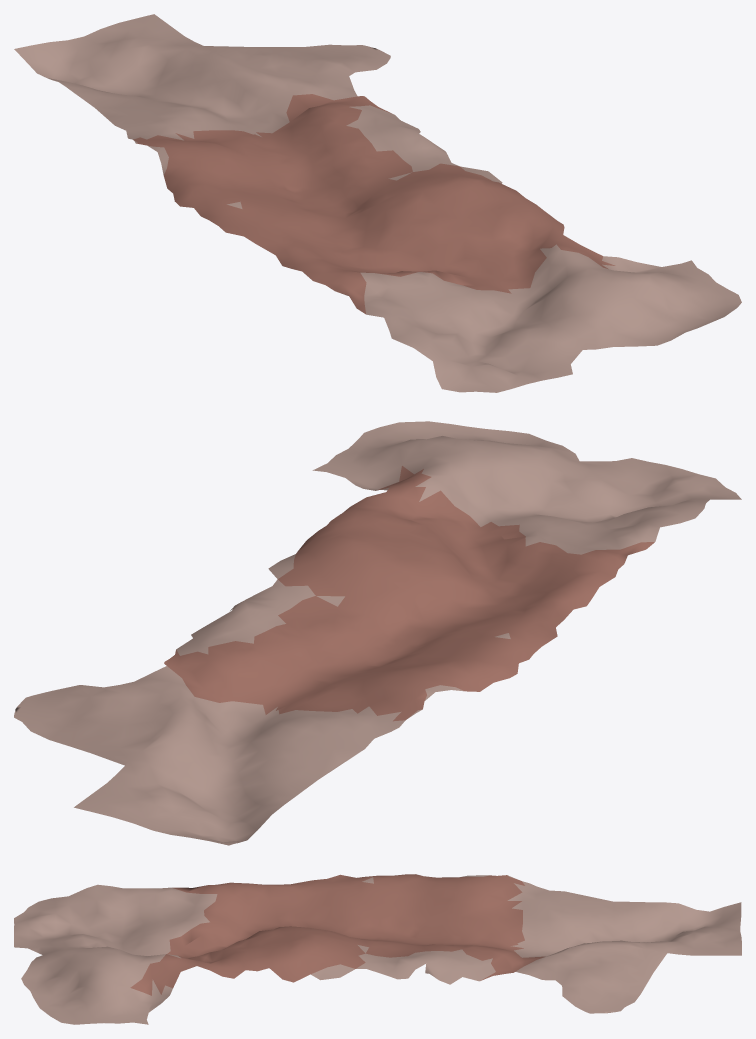
File: scene-nograss.gltf
3 views of the same model, one above another, from view 1: azimuth 30°, elevation 25°; view 2: azimuth 150°, elevation 25°; view 3: azimuth 270°, elevation 25° (orthographic). The views are drawn at different scales.
Visible parts, largest first — view 1: Sol; view 2: Sol; view 3: Sol.
Boxes of the visible parts, x1,y1,x2,y2 form: Sol: (14,14,741,392); Sol: (14,421,741,845); Sol: (14,874,741,1024).
Bounding box in the file's own units: 127 × 17.52 × 291.
